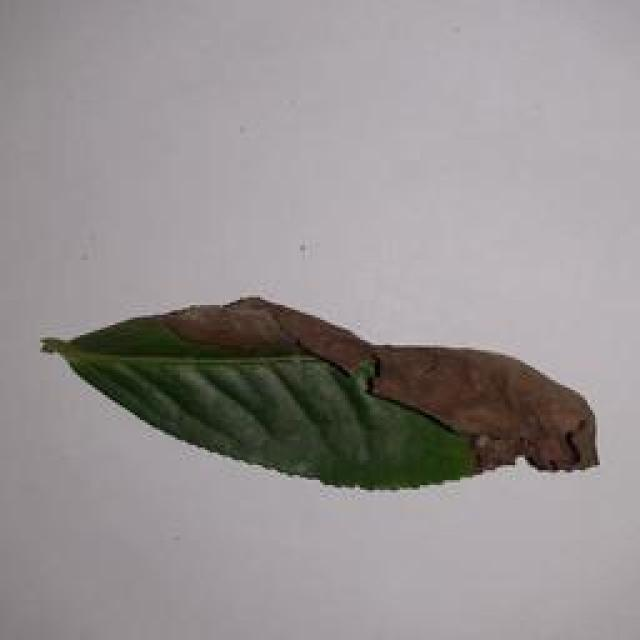Brown Blight: (35, 293, 602, 501)
